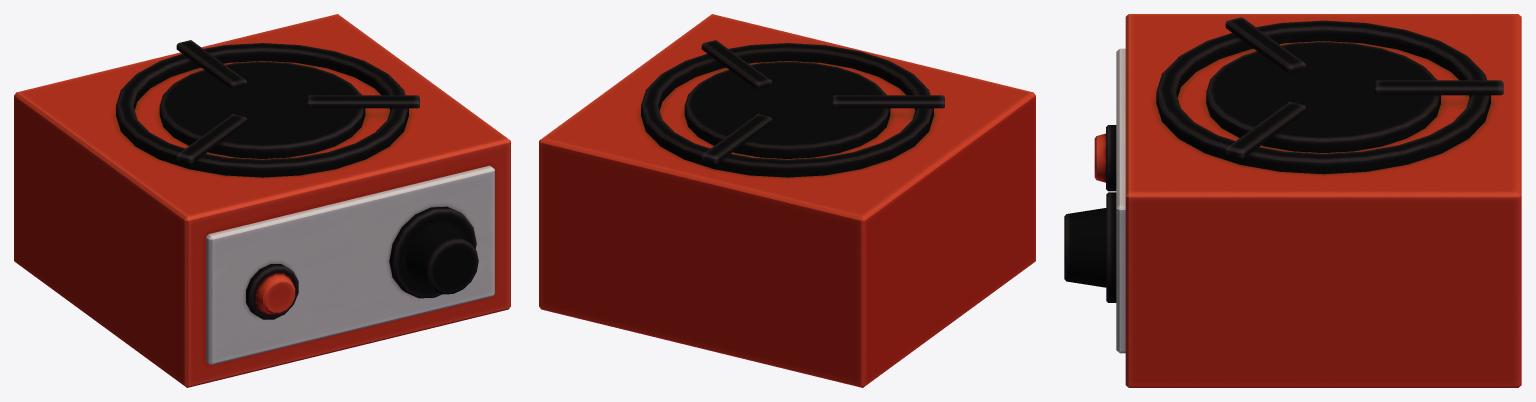
File: Gas.fbx
3 views of the same model, side by side, from view 1: azimuth 30°, elevation 25°; view 2: azimuth 150°, elevation 25°; view 3: azimuth 270°, elevation 25° (orthographic). The views are drawn at different scales.
Parts seen in each view (by area): view 1: Stove; view 2: Stove; view 3: Stove.
Boxes of the visible parts, left/top/right/bottom form: Stove: left=14, top=14, right=510, bottom=387; Stove: left=539, top=14, right=1035, bottom=387; Stove: left=1064, top=14, right=1521, bottom=387.
Bounding box in the file's own units: 200 × 110 × 213.
